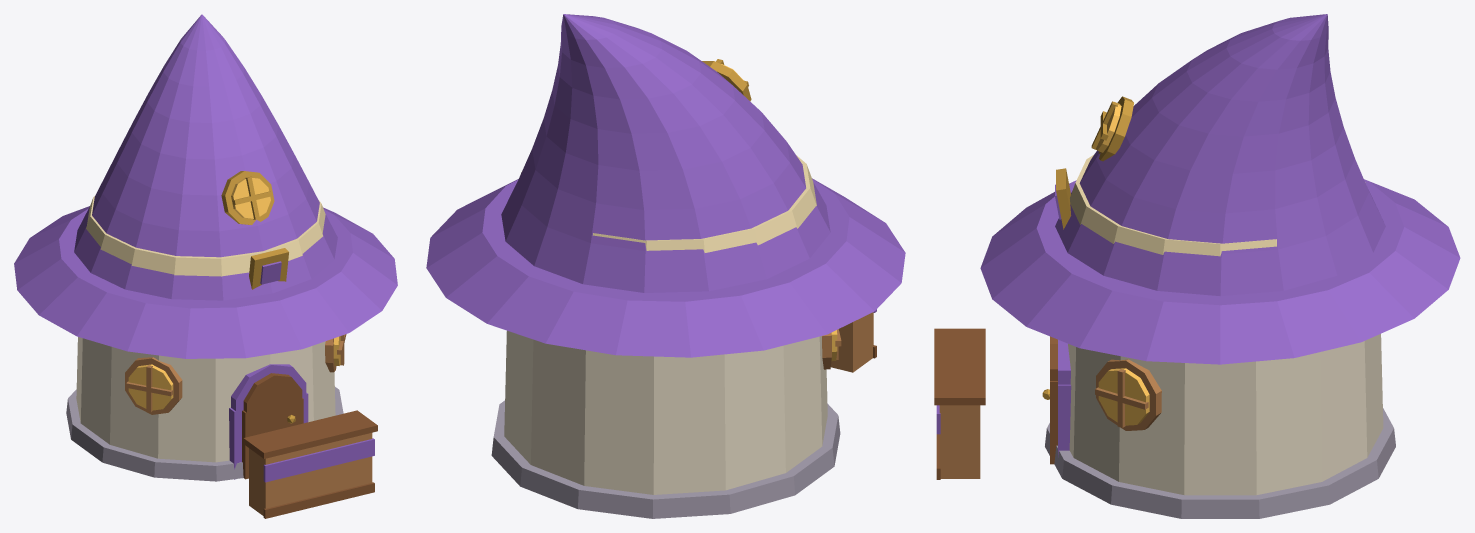
Rendered from shop_hat.glb.
3 views of the same model, side by side, from view 1: azimuth 30°, elevation 25°; view 2: azimuth 150°, elevation 25°; view 3: azimuth 270°, elevation 25° (orthographic). The views are drawn at different scales.
Visible parts, largest first — view 1: shop_hat, counter; view 2: shop_hat, counter; view 3: shop_hat, counter.
Boxes of the visible parts, x1,y1,x2,y2 form: shop_hat: (14, 14, 397, 481); counter: (243, 410, 377, 518); shop_hat: (426, 14, 905, 518); counter: (830, 309, 876, 372); shop_hat: (980, 14, 1460, 518); counter: (934, 328, 985, 479).
Size of the model in its own units: 4.7 by 4.94 by 5.15.
